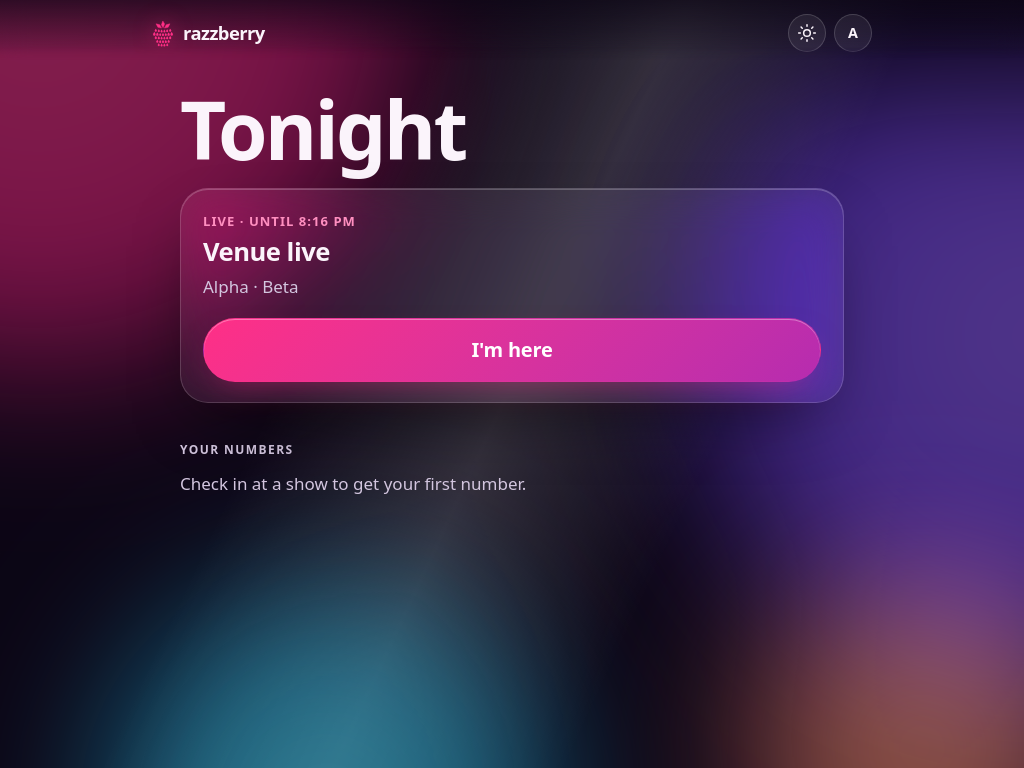
it: check-in › takes you to the location help when the browser says no
Click the button "I'm here". click: [512, 350]
box: x1=203 y1=318 x2=821 y2=382
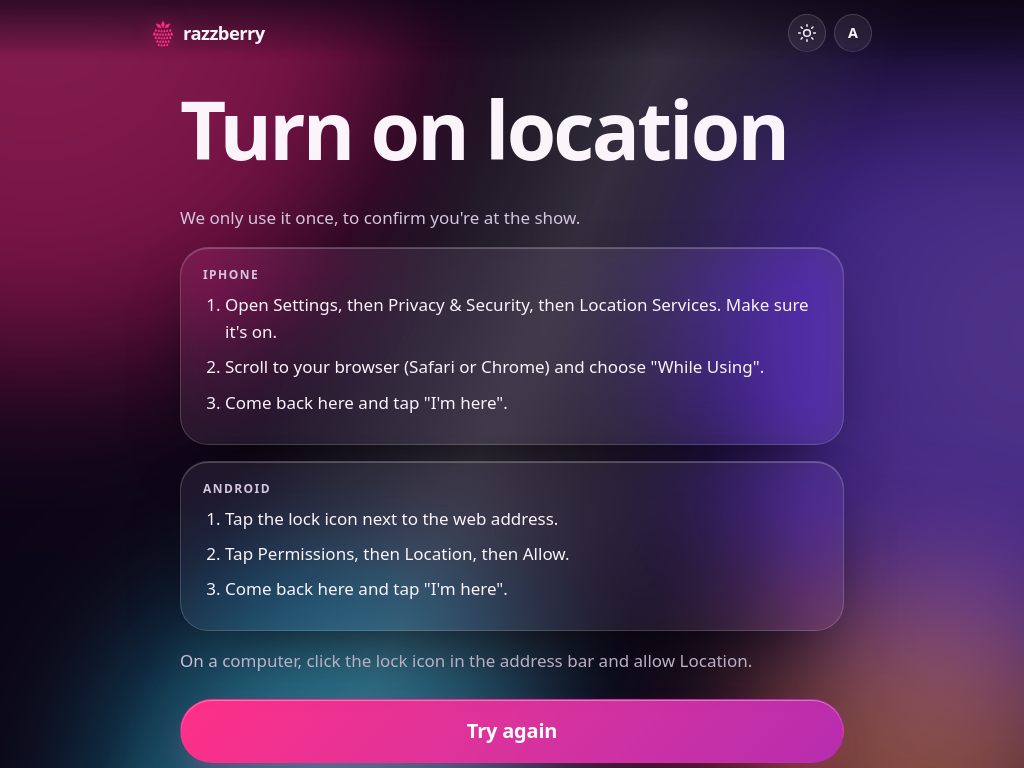
Check: the heading "Turn on location" is shown, box x1=180 y1=88 x2=844 y2=170
